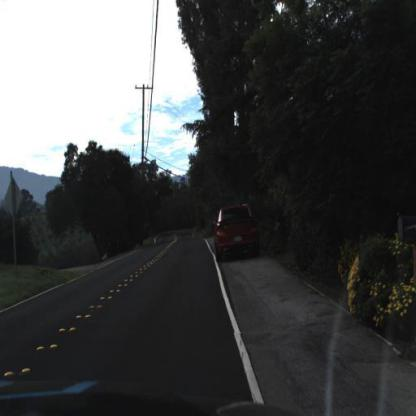car: (211, 201, 265, 259)
